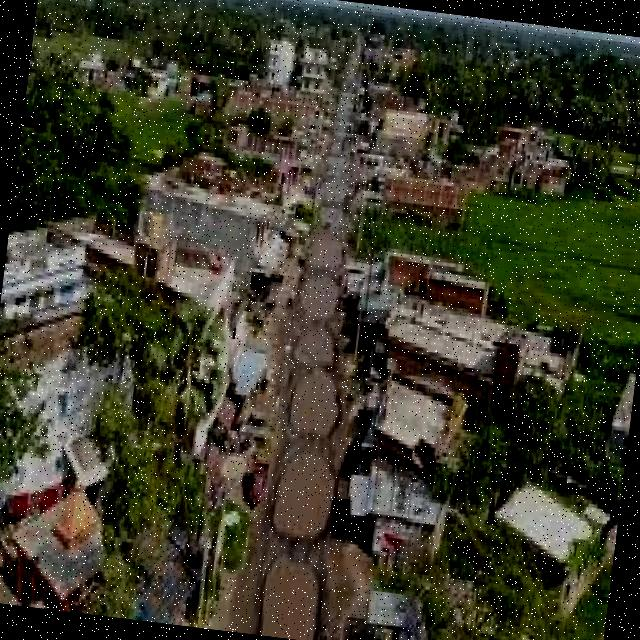pothole: (271, 454, 334, 539), (259, 557, 319, 640), (288, 374, 337, 438), (303, 275, 336, 316), (300, 330, 332, 365)
